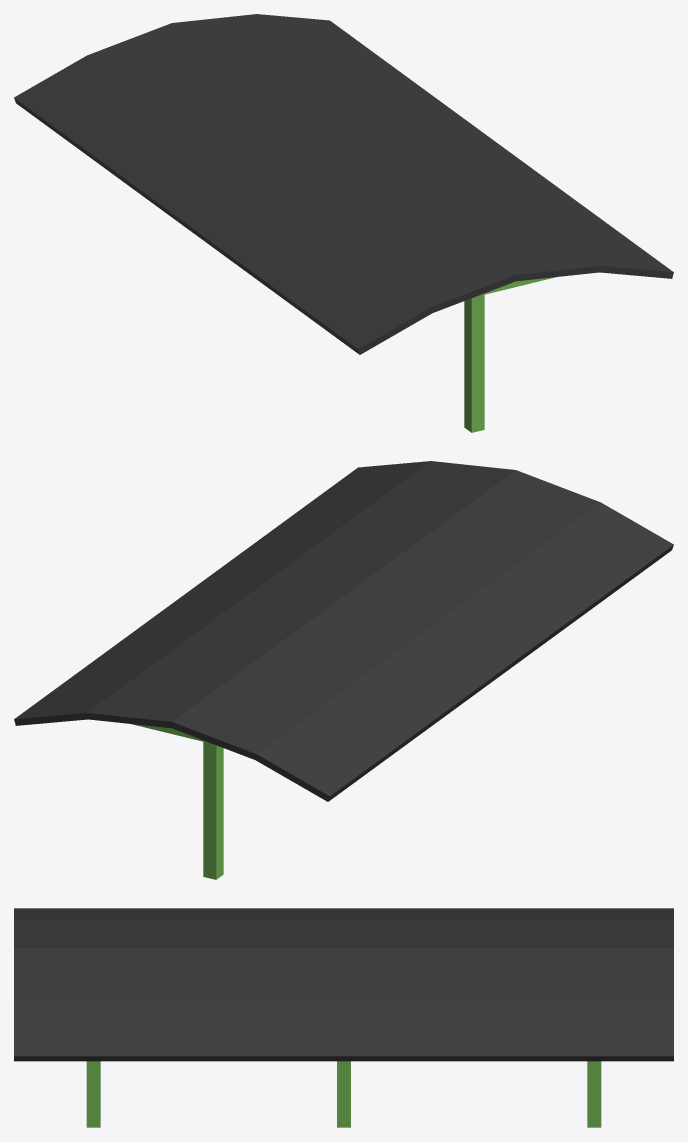
File: StationRoof.fbx
The picture shows the model from 3 angles, top to bottom: view 1: azimuth 30°, elevation 25°; view 2: azimuth 150°, elevation 25°; view 3: azimuth 270°, elevation 25°; orthographic projection. The views are drawn at different scales.
Visible parts, largest first — view 1: Cube.001; view 2: Cube.001; view 3: Cube.001.
Boxes of the visible parts, bbox=[...] form: Cube.001: bbox=[14, 14, 673, 432]; Cube.001: bbox=[14, 461, 673, 879]; Cube.001: bbox=[14, 908, 673, 1127].
Bounding box in the file's own units: 978 × 545 × 1846.
